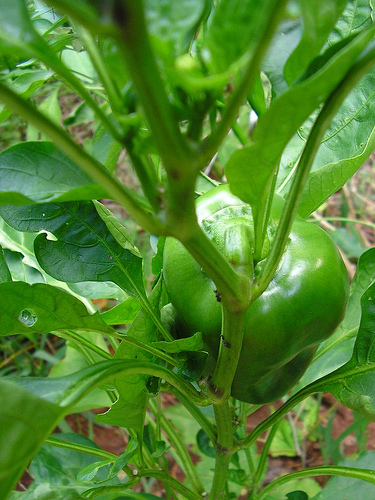capsicum: (162, 183, 347, 403)
